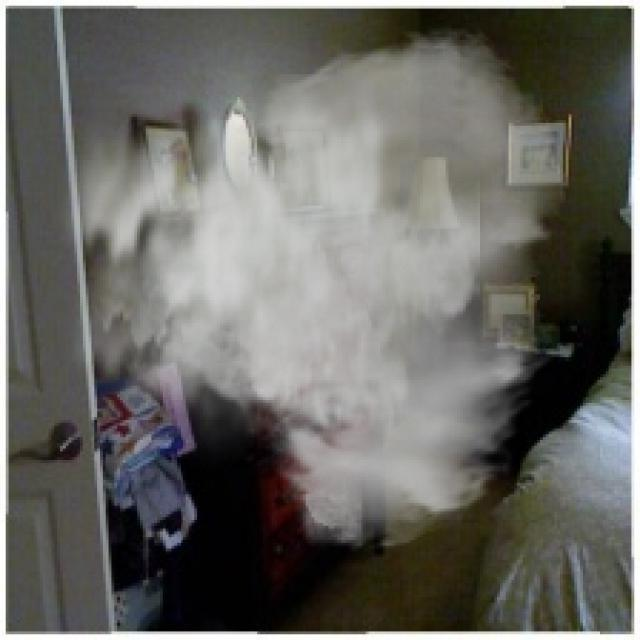Smoke: (37, 22, 569, 554)
